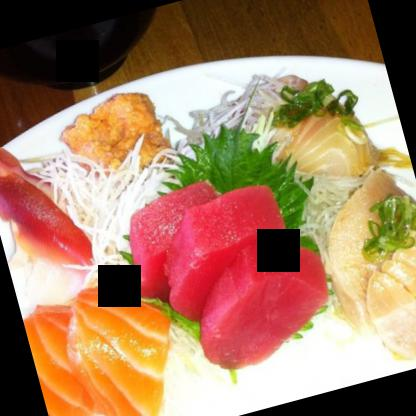salmon: (54, 265, 203, 415), (19, 288, 112, 415)
tuna: (182, 233, 343, 376), (148, 180, 302, 324), (113, 176, 240, 301)
